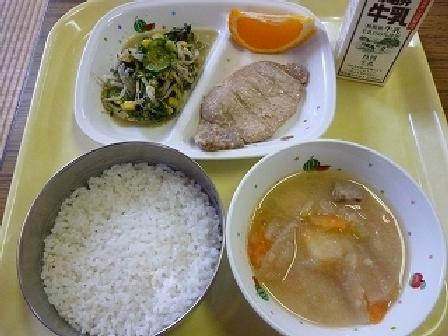Citrus: (221, 5, 316, 58)
Meat: (193, 49, 313, 153)
Milk: (325, 0, 441, 89)
Rice: (26, 150, 229, 330)
Salad: (100, 20, 202, 118)
vegetable soup: (234, 153, 445, 329)
